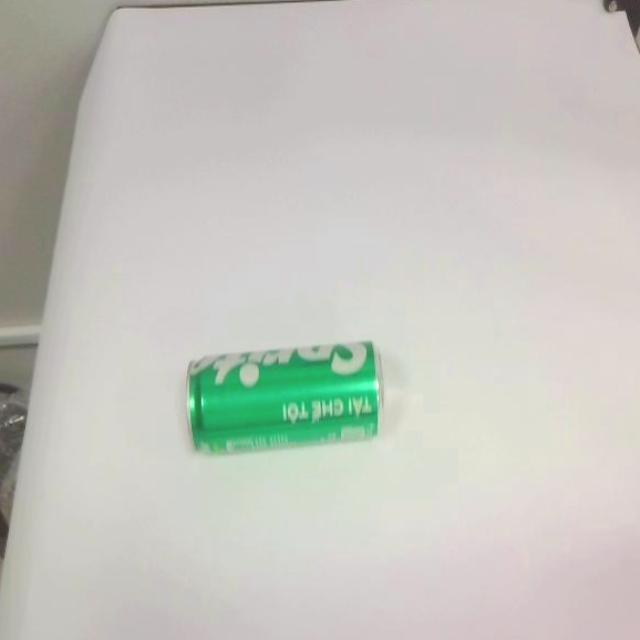debris: (186, 340, 383, 457)
